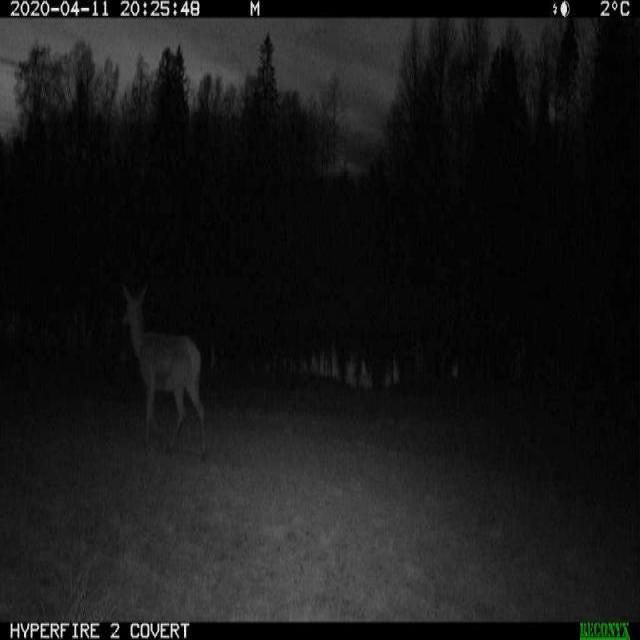deer: (115, 276, 207, 472)
